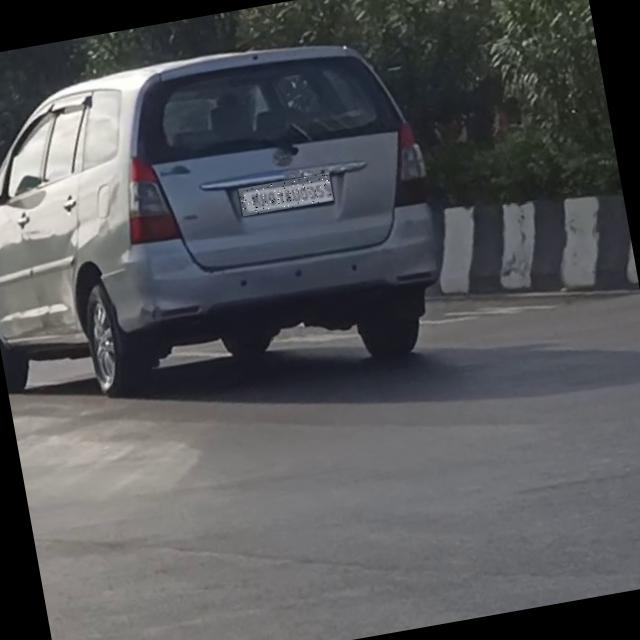Plate: (239, 173, 334, 217)
